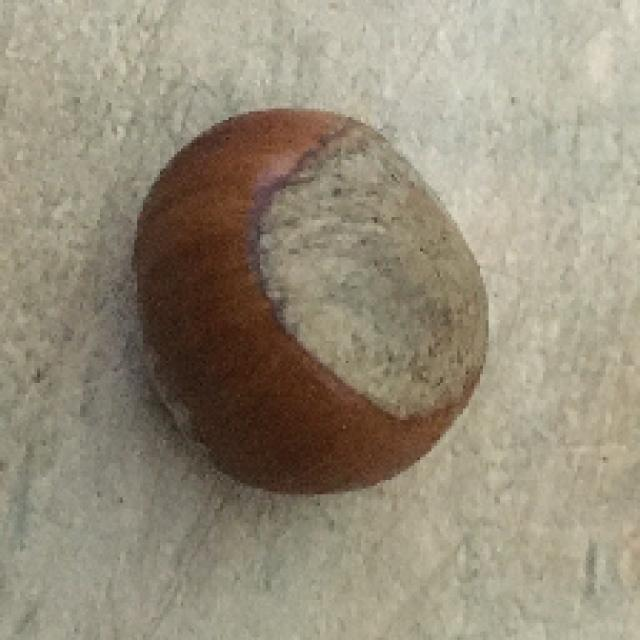QualityHazelnut: (128, 105, 492, 496)
